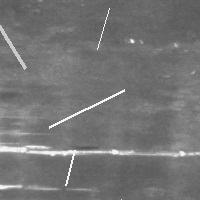scratches: (44, 85, 129, 132), (1, 139, 198, 159), (0, 8, 30, 73), (92, 3, 114, 54), (1, 181, 87, 193), (61, 145, 80, 190), (115, 194, 158, 200)
